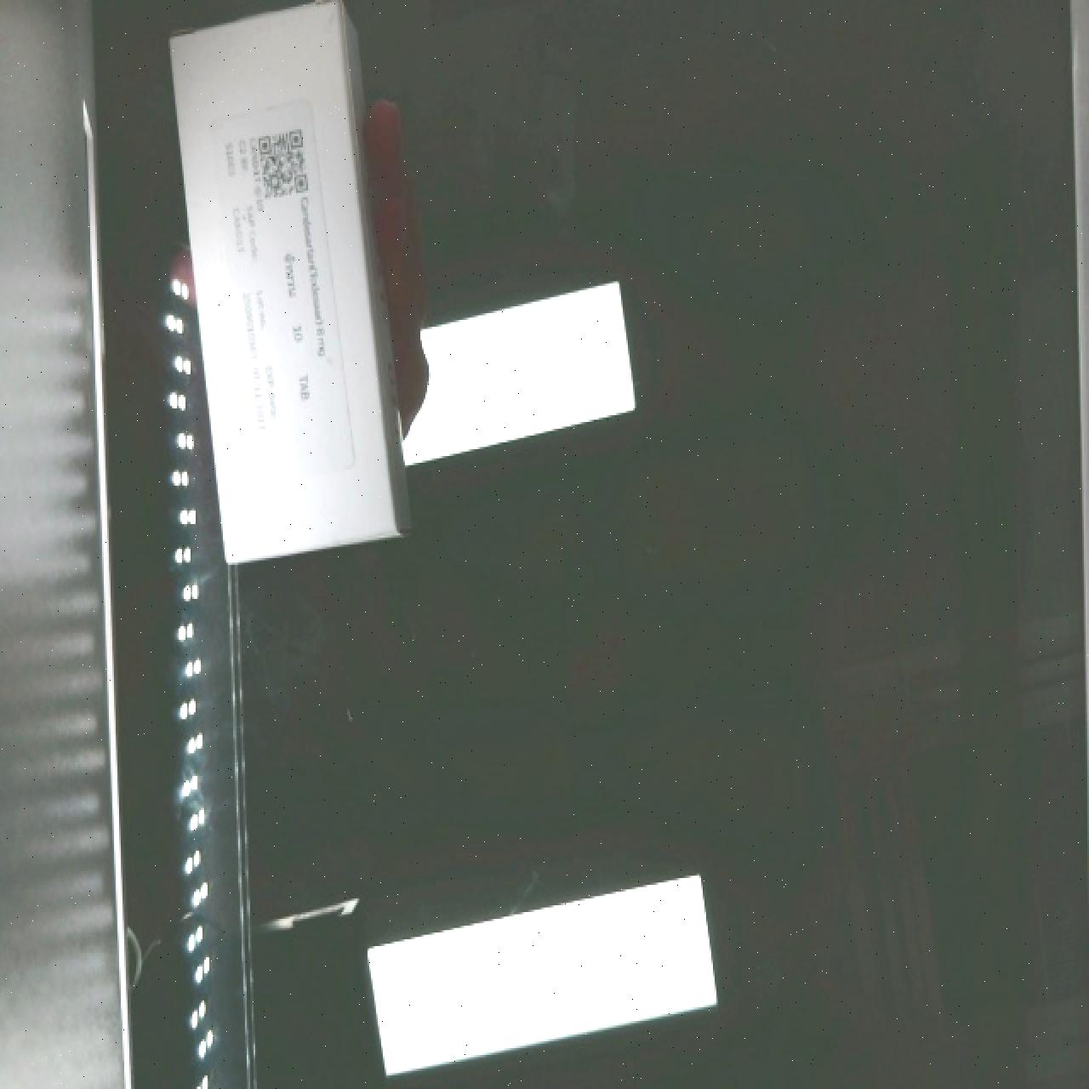qr_code: (238, 104, 331, 223)
